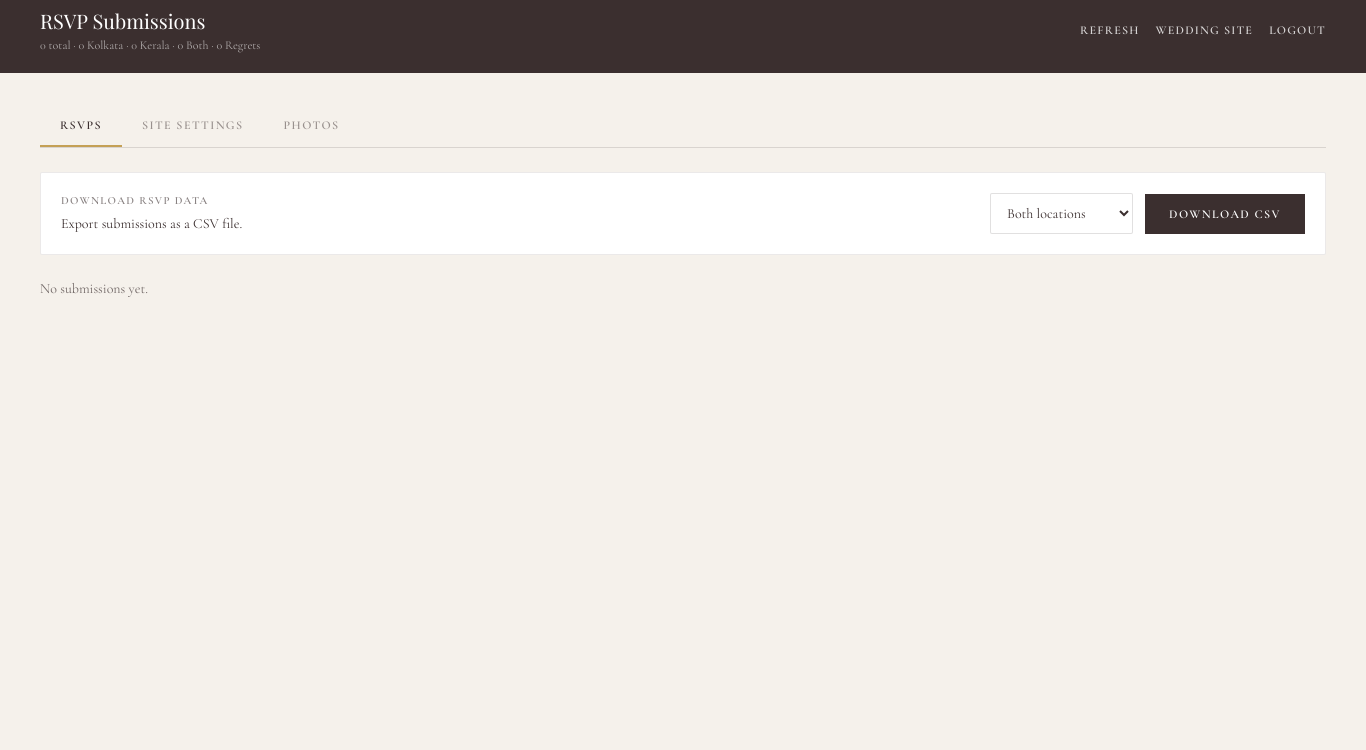
Test: AdminPage › mehendi starts unchecked when hidden by default
What coordinates should you click on to do the following:
click the button "Site Settings"
I would click on:
 (193, 126)
Its box is [122,105,264,147].
(page scrolled)
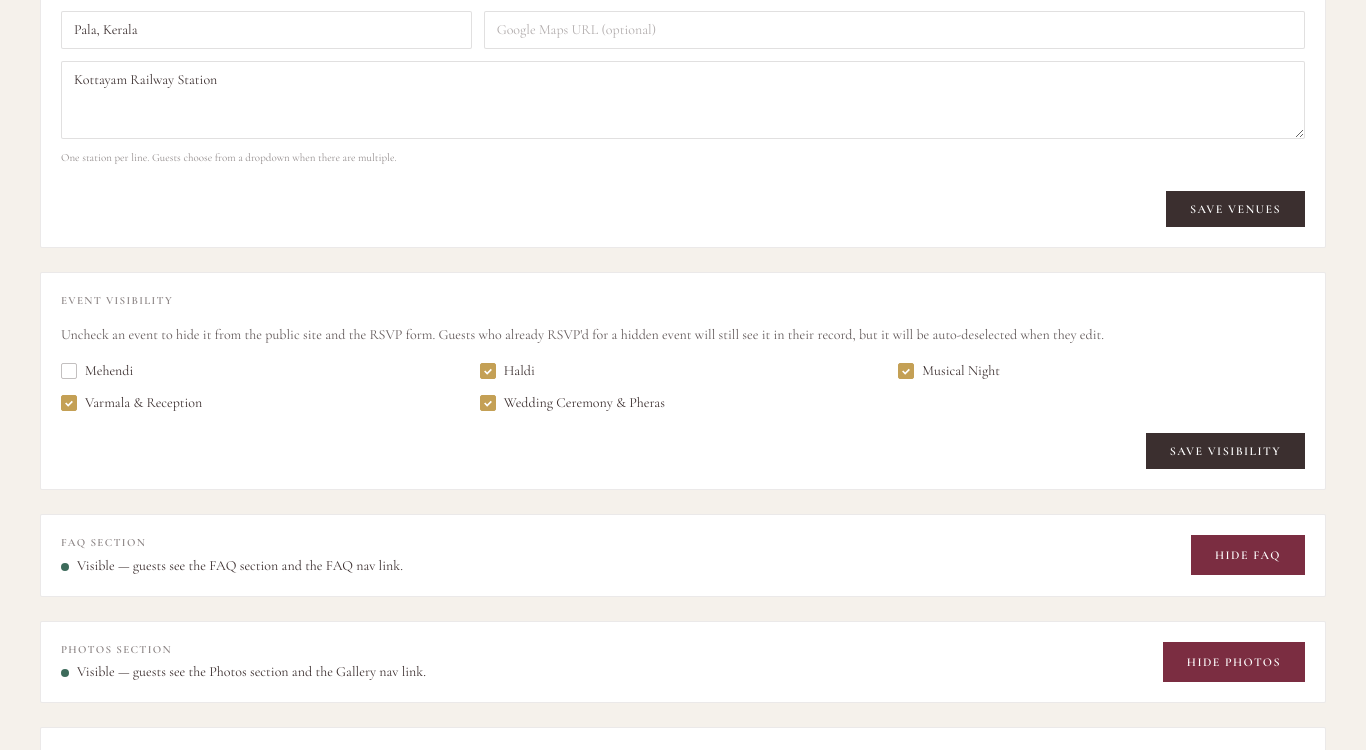
Check: the checkbox labelled "Mehendi" is not checked, box [61,362,133,379]
